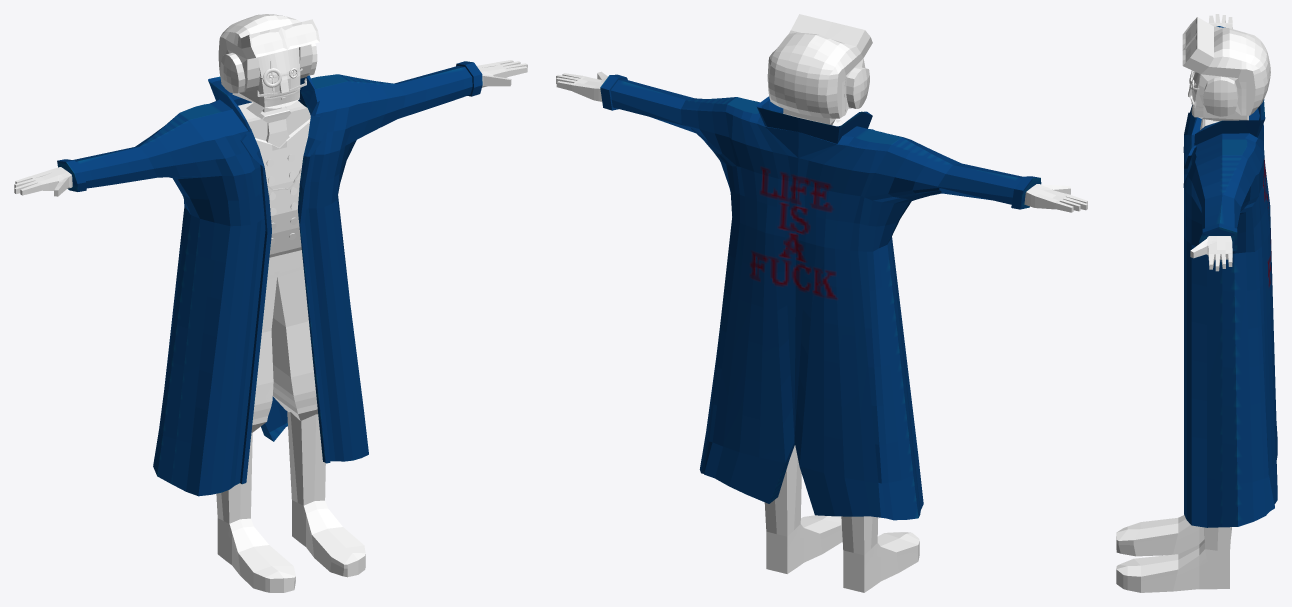
File: testBomberUV.fbx
The picture shows the model from 3 angles, left to right: view 1: azimuth 30°, elevation 25°; view 2: azimuth 150°, elevation 25°; view 3: azimuth 270°, elevation 25°; orthographic projection. The views are drawn at different scales.
Visible parts, largest first — view 1: Bomber.001; view 2: Bomber.001; view 3: Bomber.001.
Part boxes in pixels (x1,y1,x2,y2): Bomber.001: [14, 14, 527, 592]; Bomber.001: [556, 14, 1087, 592]; Bomber.001: [1116, 14, 1277, 592].
Bounding box in the file's own units: 495 × 488 × 134.
